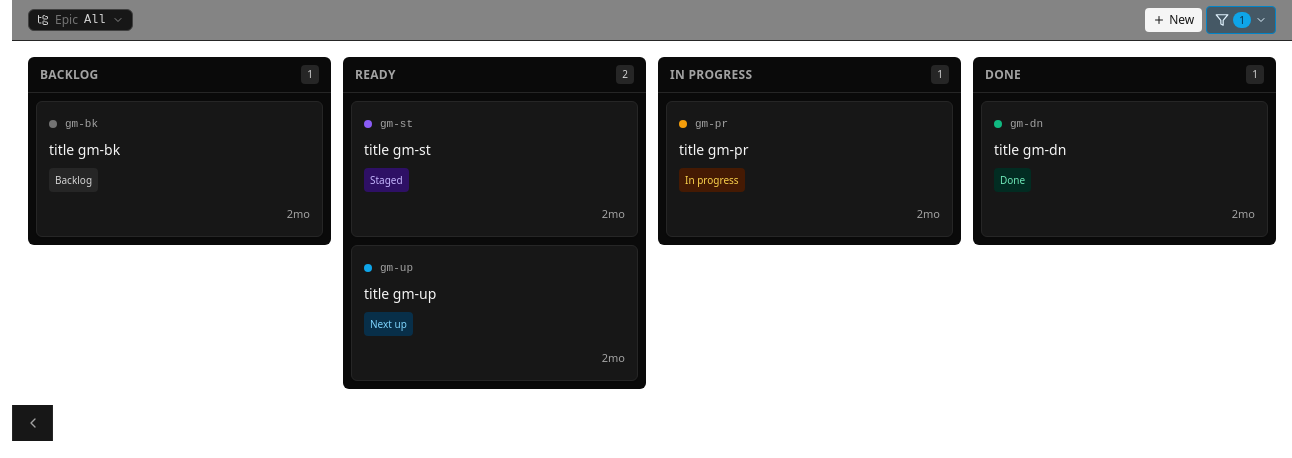
Scenario: BoardPage › show_backlog kanban toggle (gm-5ekd) › localStorage gemba.board.show-backlog=1 survives reload
This screenshot has width=1292, height=458.
Expected: the element with test id "board-column-backlog" is shown, [28,57,331,245]
Click the button with test id "board-filter-menu-button": (1241, 20) [1206,6,1276,34]
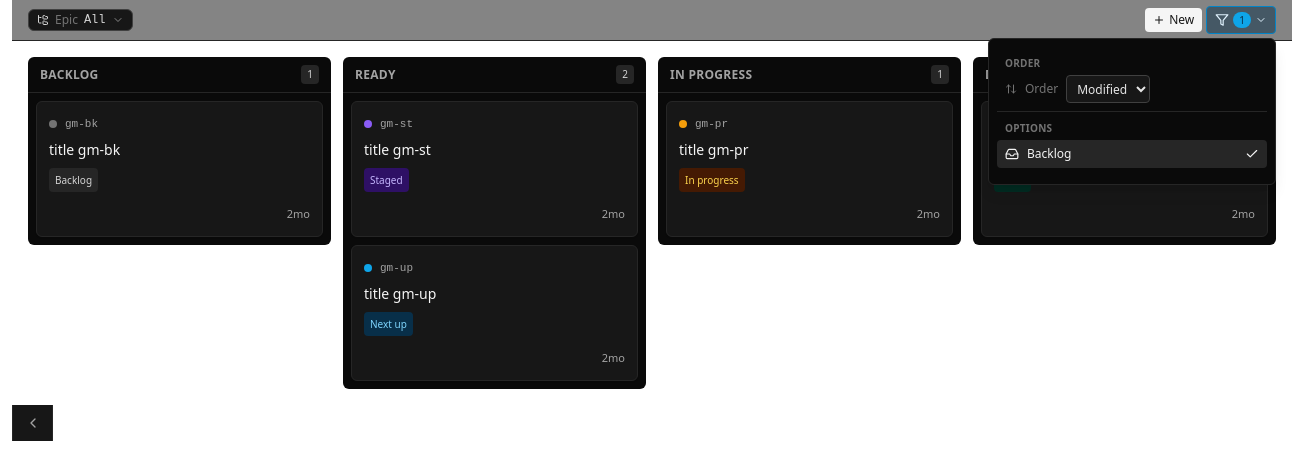
Expected: the menu with test id "board-filter-menu" is shown, [988,38,1276,185]
